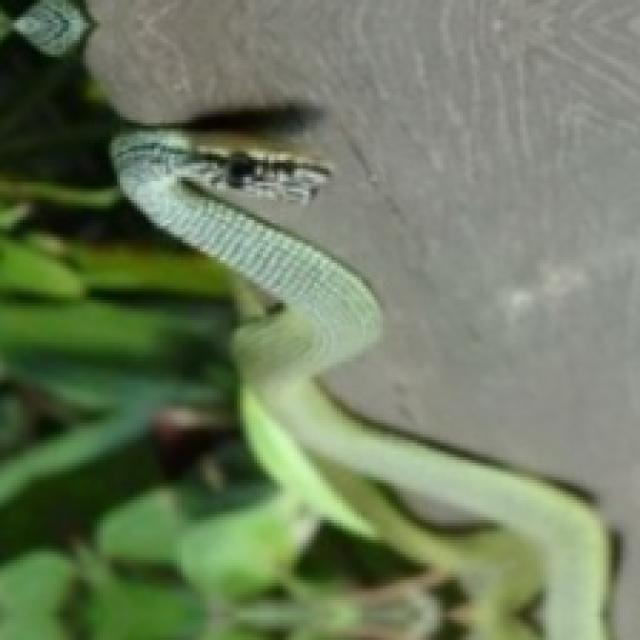paradise tree snake: (111, 129, 609, 637)
